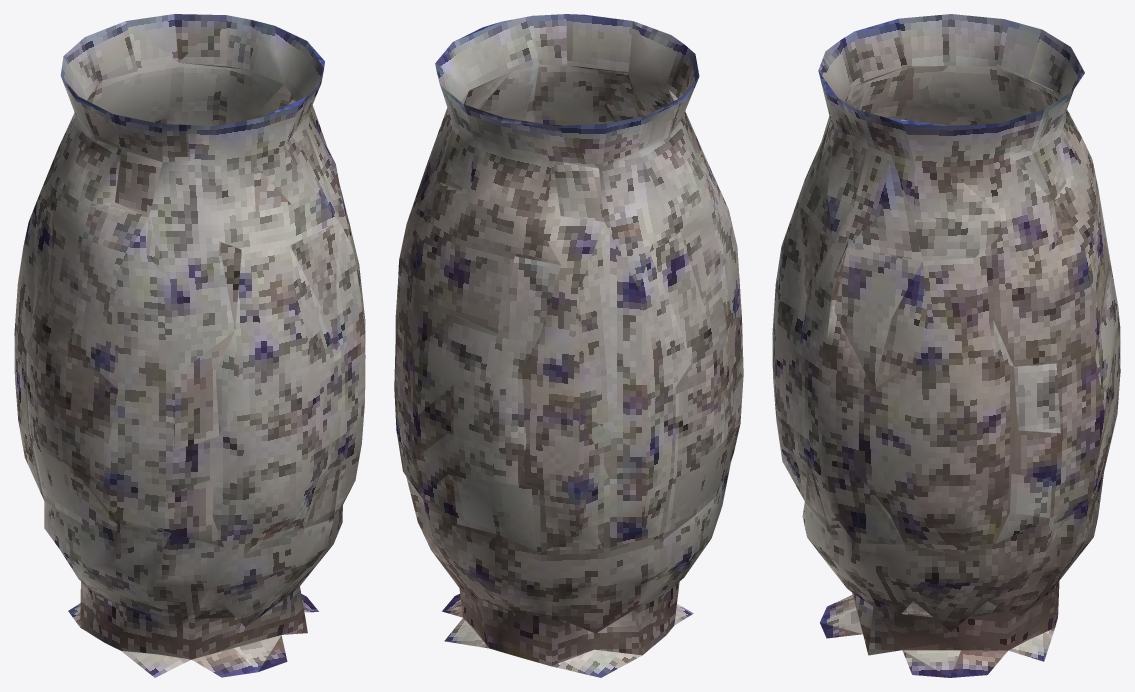
File: gg_vase_ceramic.glb
3 renders of one model, left to right at view 1: azimuth 30°, elevation 25°; view 2: azimuth 150°, elevation 25°; view 3: azimuth 270°, elevation 25°, orthographic.
Visible parts, largest first — view 1: mesh; view 2: mesh; view 3: mesh.
Boxes of the visible parts, x1,y1,x2,y2 form: mesh: [14, 14, 365, 677]; mesh: [394, 14, 743, 677]; mesh: [772, 14, 1120, 677].
Bounding box in the file's own units: 0.2497 × 0.4396 × 0.2498.
Materials: 1 (1 with a texture image).
